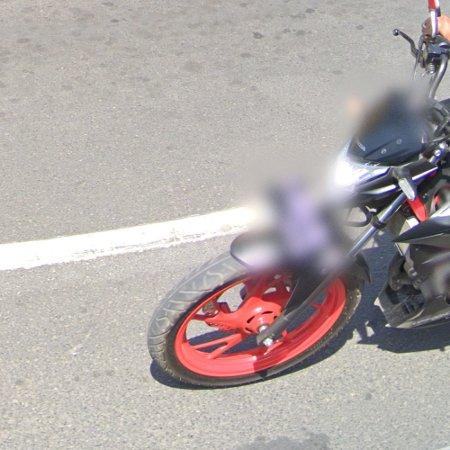motorcycles: (146, 0, 450, 390)
